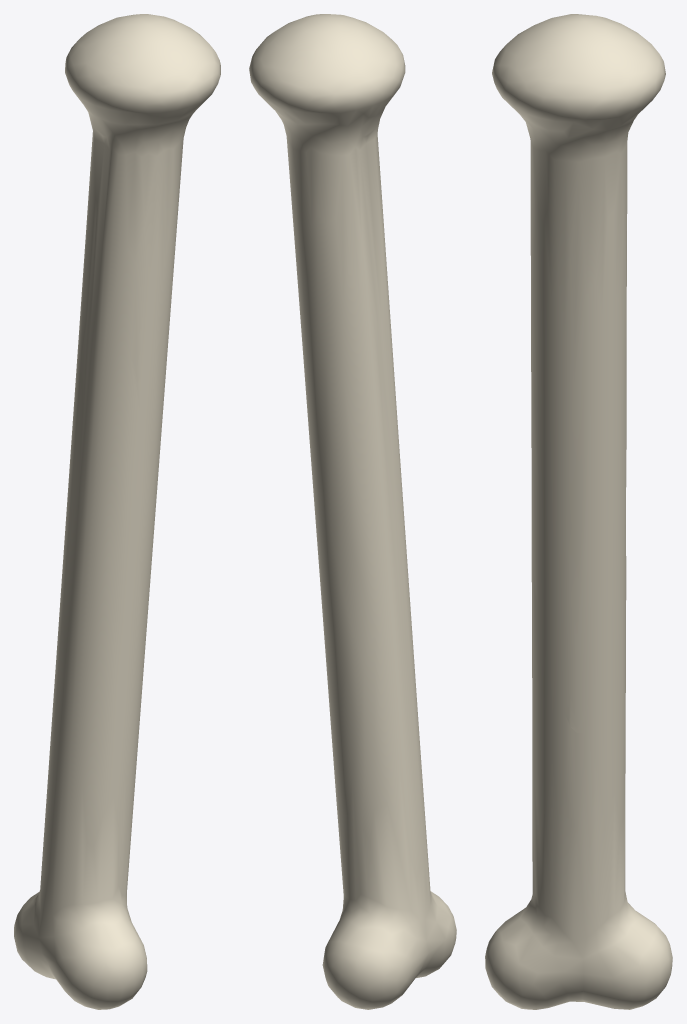
Rendered from metatarsal_r.glb.
3 views of the same model, side by side, from view 1: azimuth 30°, elevation 25°; view 2: azimuth 150°, elevation 25°; view 3: azimuth 270°, elevation 25° (orthographic). The views are drawn at different scales.
Parts seen in each view (by area): view 1: geometry_0; view 2: geometry_0; view 3: geometry_0.
Part boxes in pixels (<box>): geometry_0: <box>14,14,220,1009</box>; geometry_0: <box>249,14,456,1009</box>; geometry_0: <box>485,14,672,1009</box>.
Size of the model in its own units: 0.1333 by 0.7154 by 0.1197.
